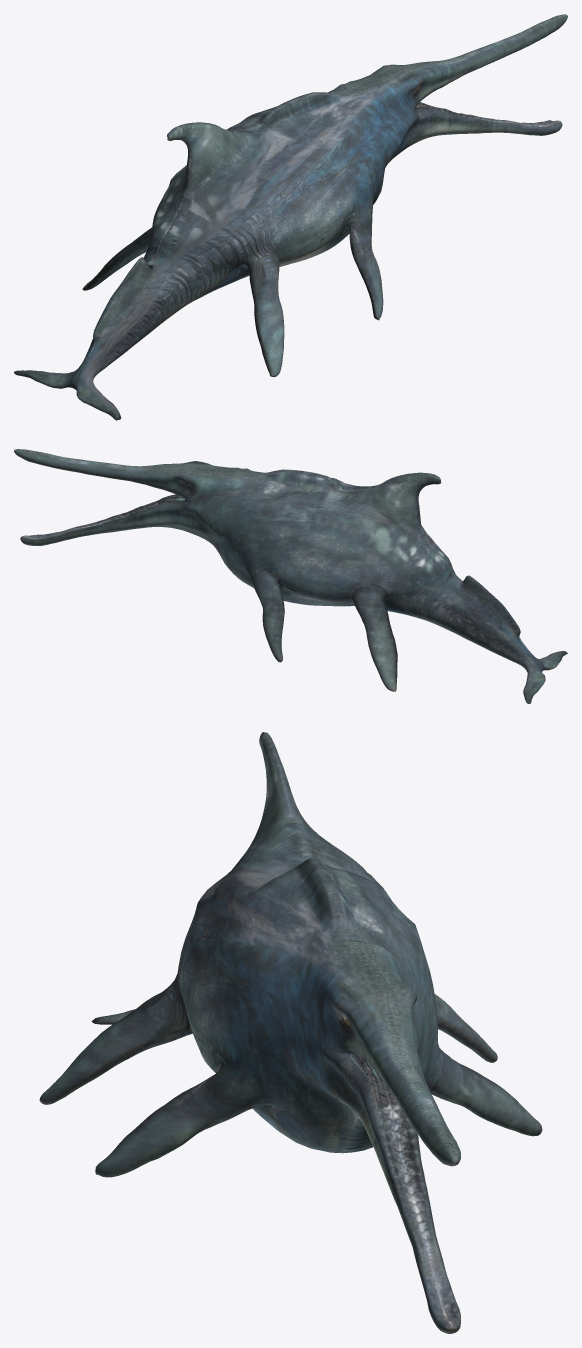
The picture shows the model from 3 angles, top to bottom: view 1: azimuth 30°, elevation 25°; view 2: azimuth 150°, elevation 25°; view 3: azimuth 270°, elevation 25°; orthographic projection. The views are drawn at different scales.
Visible parts, largest first — view 1: Mesh0; view 2: Mesh0; view 3: Mesh0.
Part boxes in pixels (x1,y1,x2,y2): Mesh0: (14, 14, 567, 420); Mesh0: (14, 449, 567, 703); Mesh0: (39, 732, 542, 1333).
Bounding box in the file's own units: 0.0867 × 0.0322 × 0.0387.
Materials: 1 (1 with a texture image).
